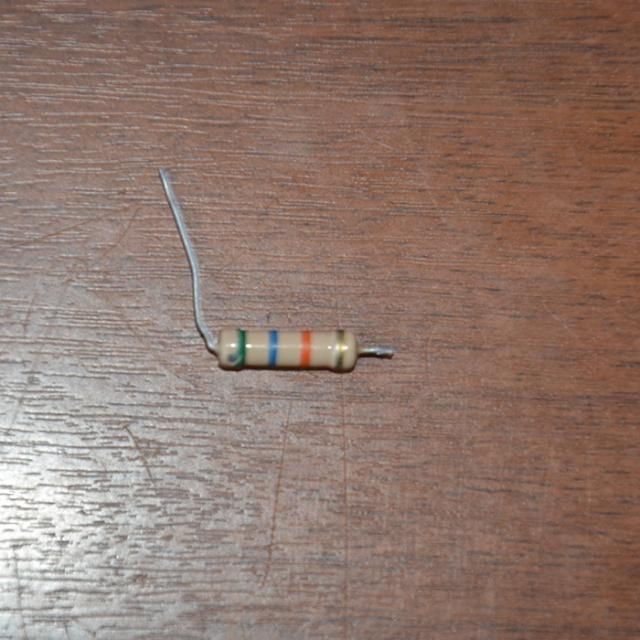blue: (269, 328, 276, 366)
gold: (336, 329, 344, 369)
green: (238, 328, 246, 367)
orange: (302, 330, 309, 365)
resistor: (219, 310, 369, 383)
